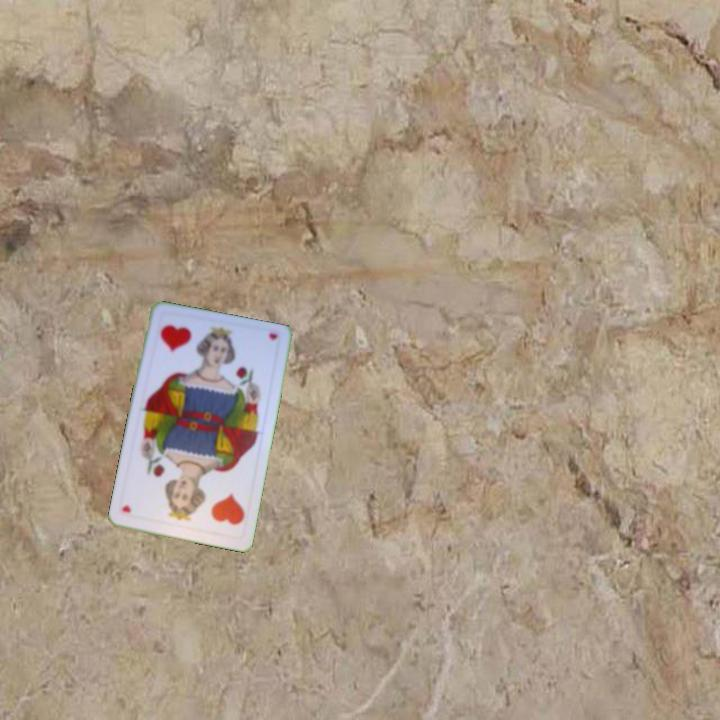h_q.png: (147, 310, 223, 379), (178, 473, 254, 541)
